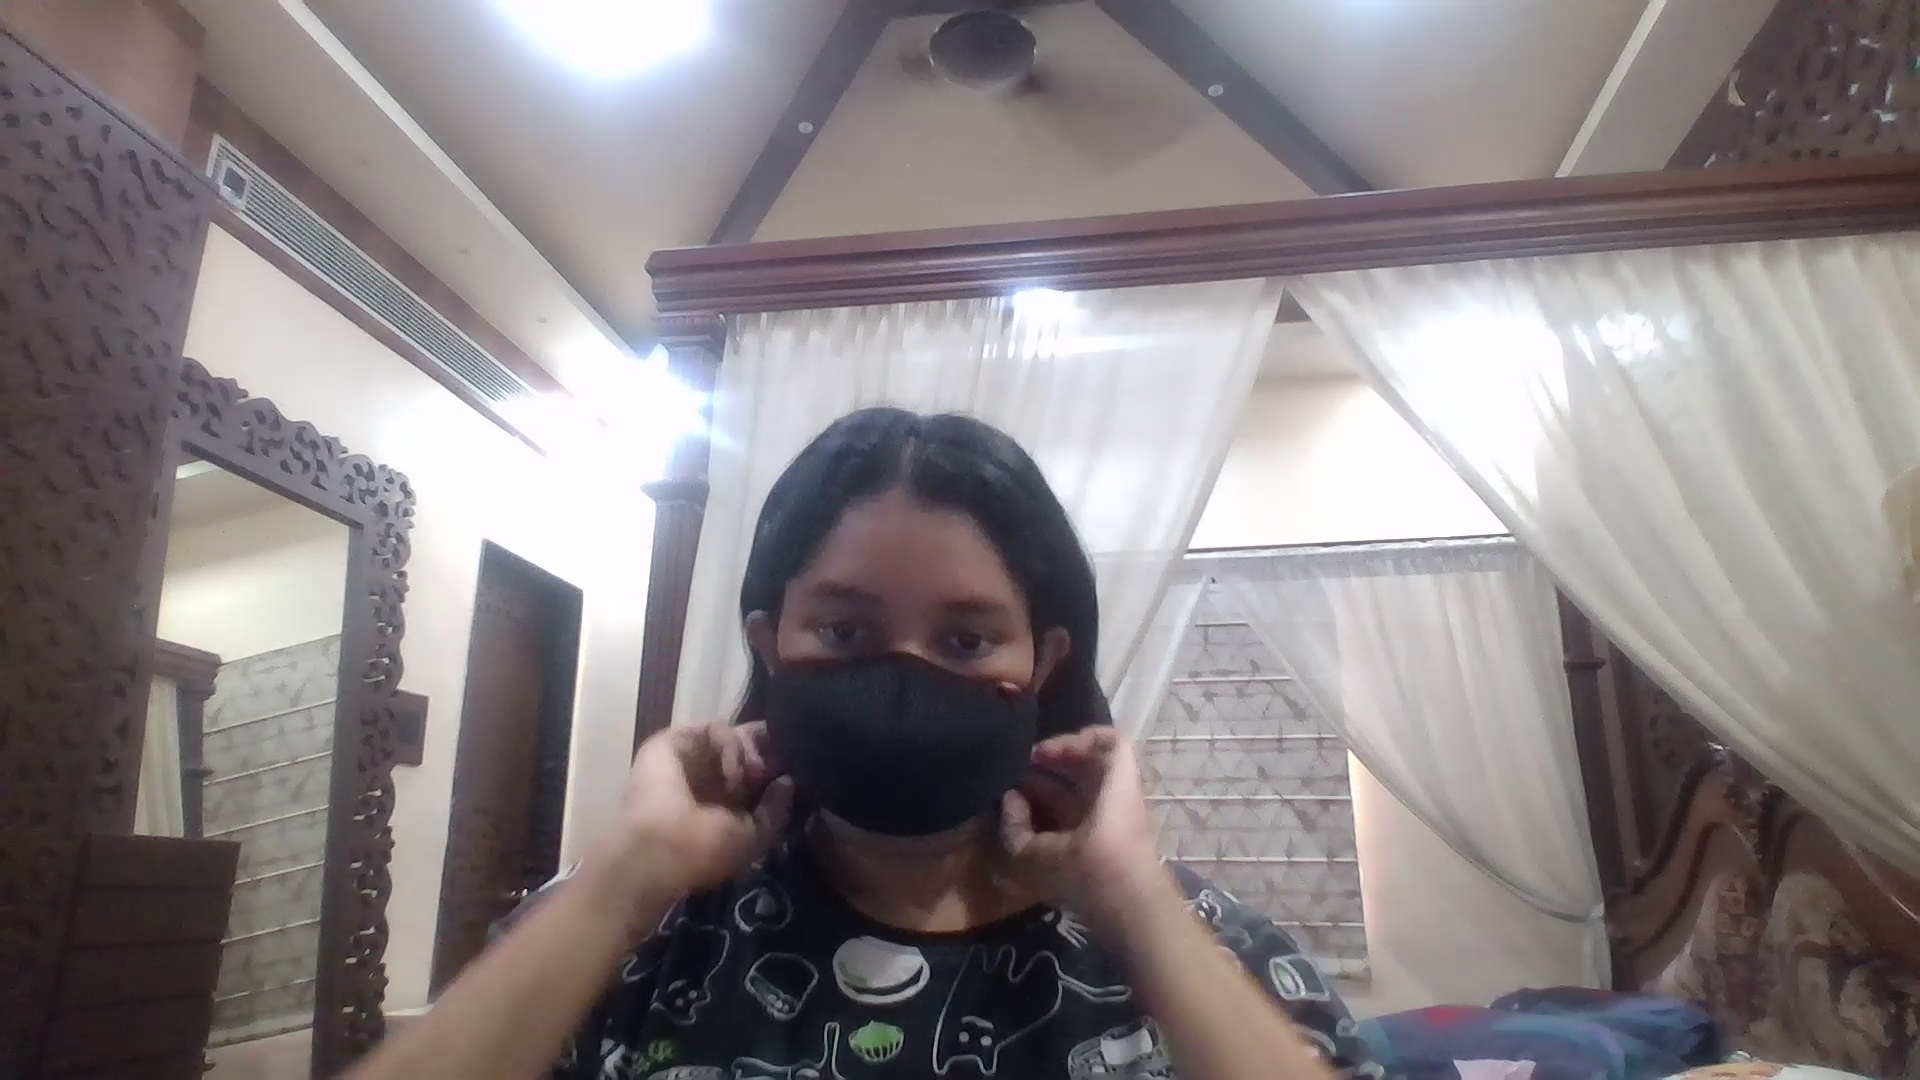Mask: (773, 659, 1017, 828)
